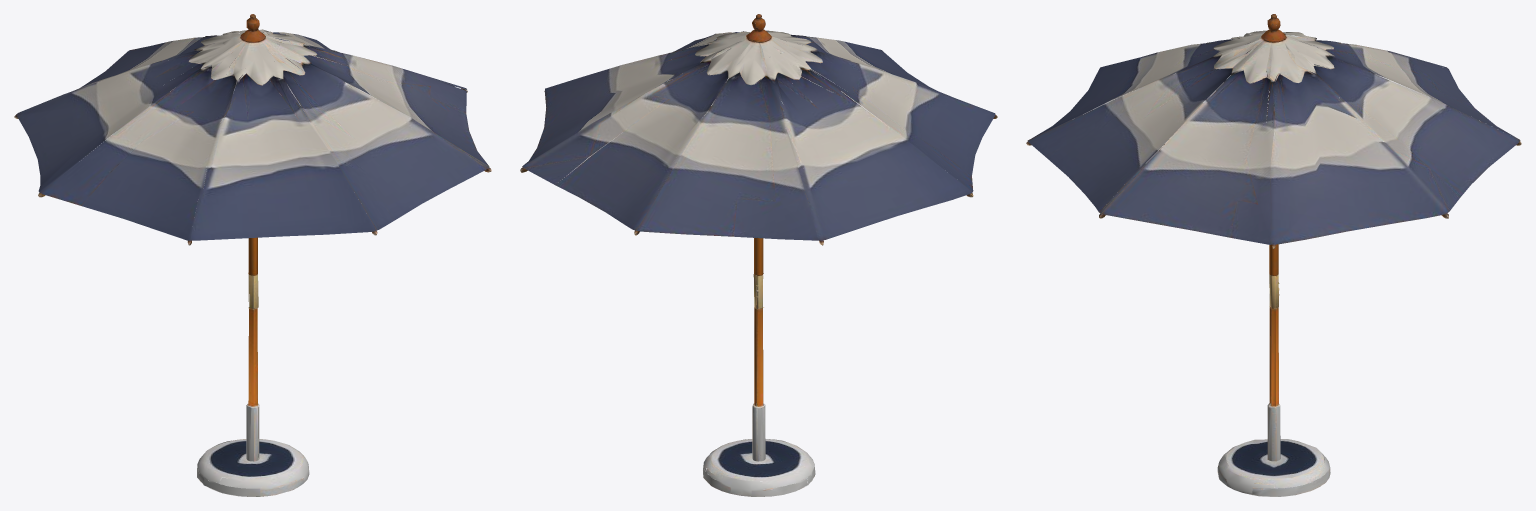
The model's file is deck-umbrella.glb.
The picture shows the model from 3 angles, left to right: view 1: azimuth 30°, elevation 25°; view 2: azimuth 150°, elevation 25°; view 3: azimuth 270°, elevation 25°; orthographic projection.
Parts seen in each view (by area): view 1: tripo_node_1a68fb34-b208-4c35-bc2a-aa0b249626d3; view 2: tripo_node_1a68fb34-b208-4c35-bc2a-aa0b249626d3; view 3: tripo_node_1a68fb34-b208-4c35-bc2a-aa0b249626d3.
Part boxes in pixels (x1=…): tripo_node_1a68fb34-b208-4c35-bc2a-aa0b249626d3: x1=14, y1=14, x2=491, y2=496; tripo_node_1a68fb34-b208-4c35-bc2a-aa0b249626d3: x1=520, y1=14, x2=997, y2=496; tripo_node_1a68fb34-b208-4c35-bc2a-aa0b249626d3: x1=1026, y1=14, x2=1521, y2=496.
Size of the model in its own units: 2.55 by 2.6 by 2.55.
Materials: 1 (1 with a texture image).
